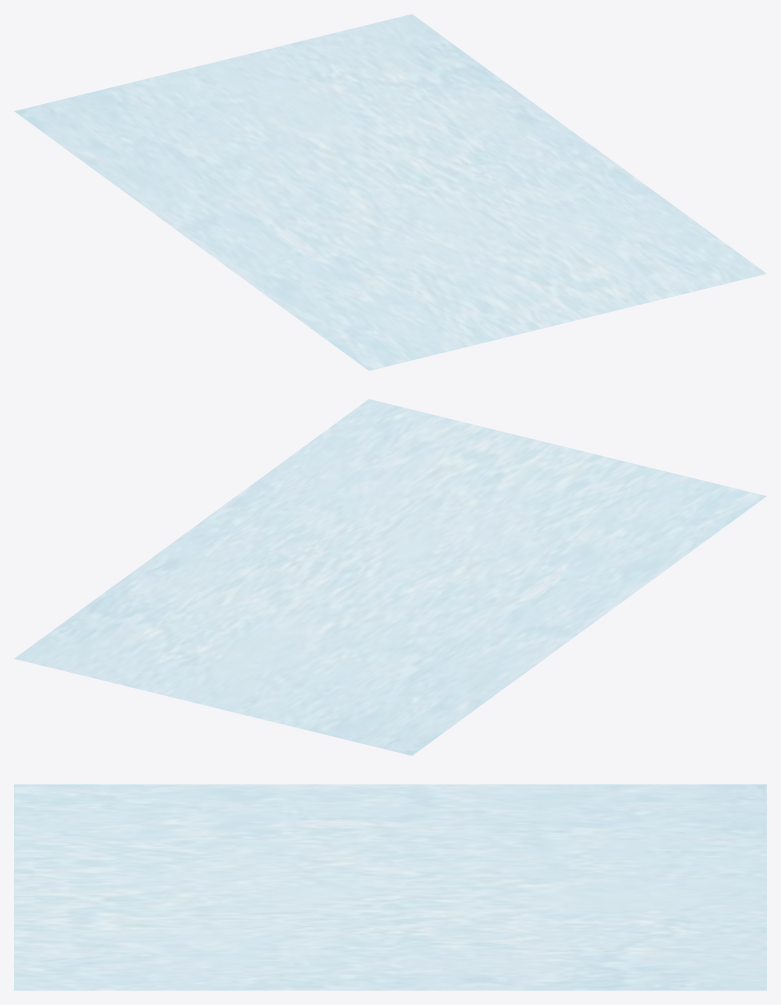
Rendered from Agua.obj.
3 renders of one model, top to bottom at view 1: azimuth 30°, elevation 25°; view 2: azimuth 150°, elevation 25°; view 3: azimuth 270°, elevation 25°, orthographic. The views are drawn at different scales.
Parts seen in each view (by area): view 1: Agua; view 2: Agua; view 3: Agua.
Boxes of the visible parts, bbox=[...] form: Agua: bbox=[14, 14, 766, 370]; Agua: bbox=[14, 399, 766, 755]; Agua: bbox=[14, 784, 766, 990].
Size of the model in its own units: 3.8 by 0 by 5.87.
Materials: 1 (1 with a texture image).
